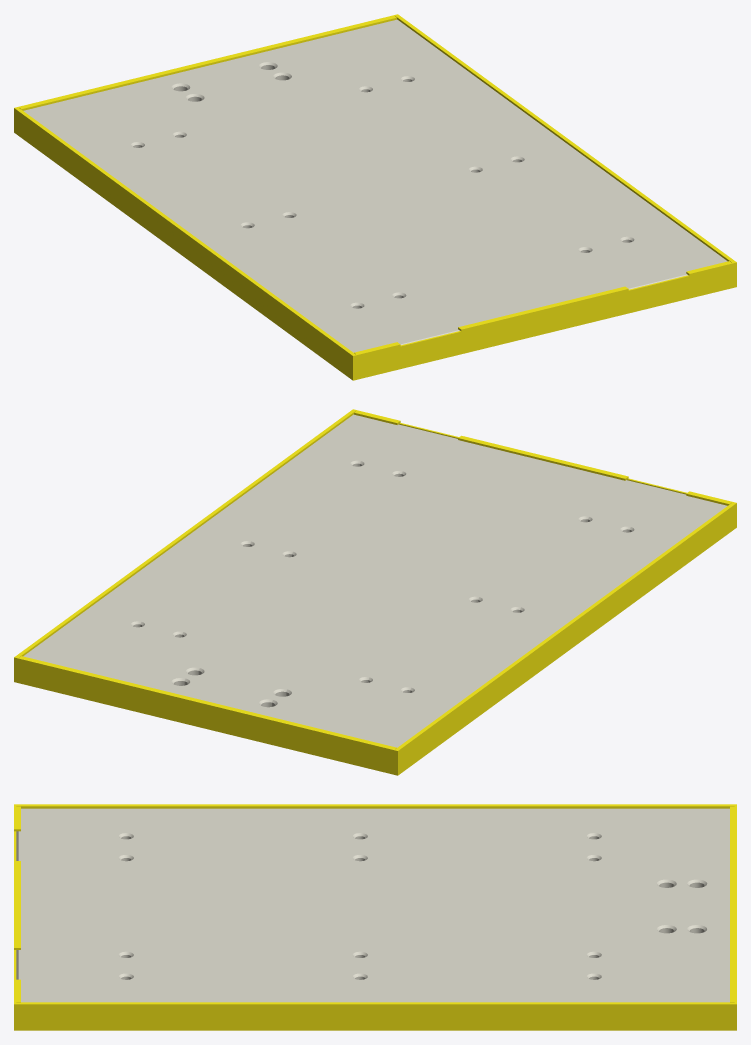
The model's file is frameLGSBlock2.glb.
3 renders of one model, top to bottom at view 1: azimuth 30°, elevation 25°; view 2: azimuth 150°, elevation 25°; view 3: azimuth 270°, elevation 25°, orthographic. The views are drawn at different scales.
Visible parts, largest first — view 1: Body1, Body1001, Body1005, Body1037, Body1035; view 2: Body1, Body1037, Body1005, Body1035, Body1001; view 3: Body1, Body1035, Body1005, Body1037, Body1001.
Part boxes in pixels (left/top/right/bottom): Body1: left=23, top=19, right=727, bottom=352; Body1001: left=352, top=261, right=736, bottom=380; Body1005: left=15, top=108, right=355, bottom=379; Body1037: left=14, top=14, right=398, bottom=132; Body1035: left=395, top=15, right=735, bottom=262; Body1: left=23, top=414, right=727, bottom=747; Body1037: left=14, top=656, right=398, bottom=775; Body1005: left=395, top=503, right=735, bottom=774; Body1035: left=15, top=410, right=355, bottom=657; Body1001: left=352, top=409, right=736, bottom=527; Body1: left=16, top=808, right=729, bottom=1002; Body1035: left=16, top=1002, right=734, bottom=1030; Body1005: left=16, top=804, right=734, bottom=808; Body1037: left=730, top=804, right=736, bottom=1030; Body1001: left=14, top=804, right=20, bottom=1030.
Bounding box in the file's own units: 2.02 × 0.132 × 3.09.
